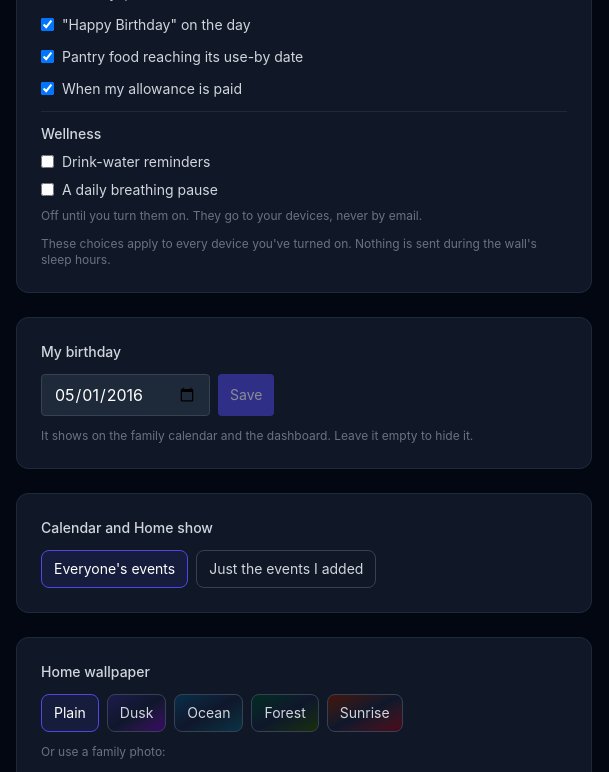
MySettings › saves my birthday
(page scrolled)
Type "2016-05-02" into the date field showing "2016-05-01" at x=126, y=395, box [41, 374, 210, 416]
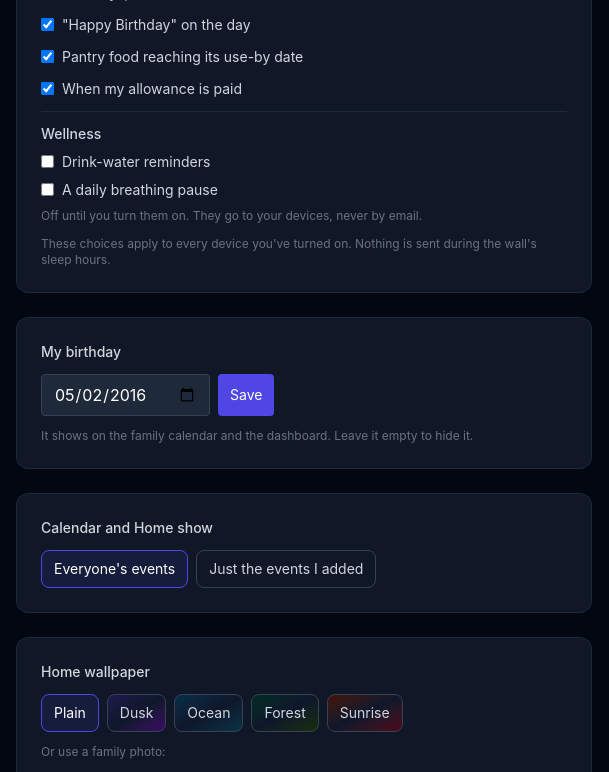
Click the button "Save" at x=246, y=395, box [218, 374, 274, 416]
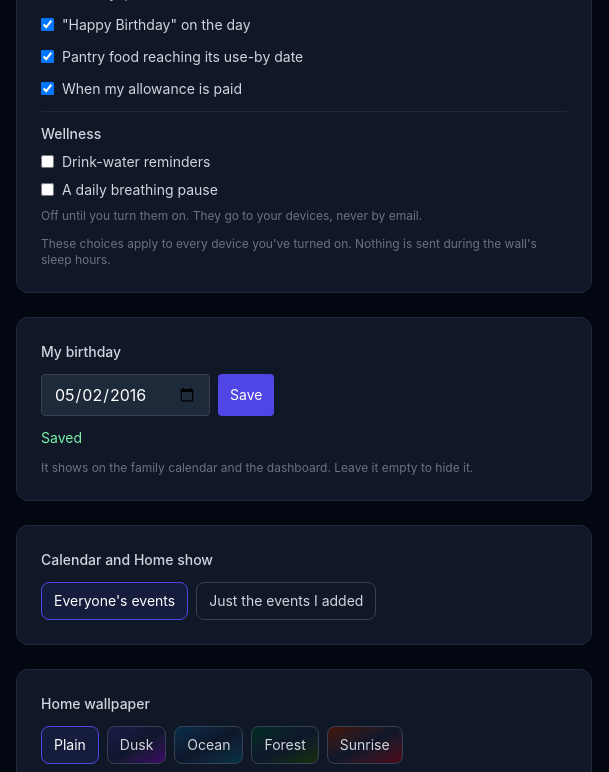
Now the text "Saved" is shown, box [41, 429, 82, 446]
